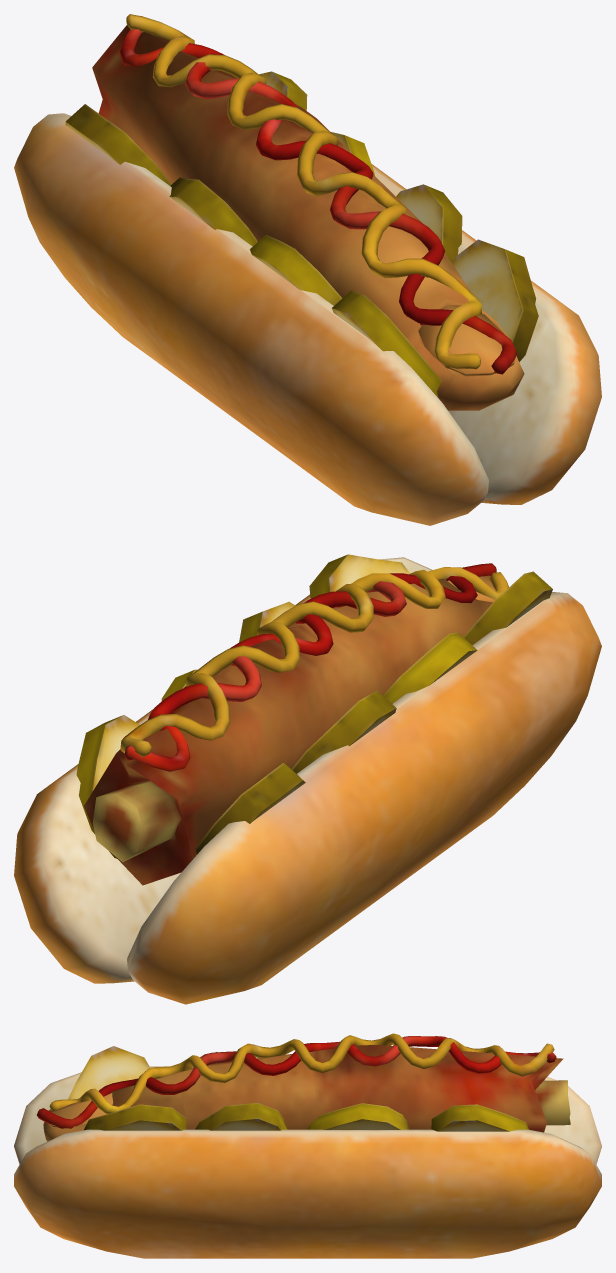
Rendered from human_hotdog_4.fbx.
The picture shows the model from 3 angles, top to bottom: view 1: azimuth 30°, elevation 25°; view 2: azimuth 150°, elevation 25°; view 3: azimuth 270°, elevation 25°; orthographic projection. The views are drawn at different scales.
Parts seen in each view (by area): view 1: human_hotdog_4; view 2: human_hotdog_4; view 3: human_hotdog_4.
Part boxes in pixels (x1,y1,x2,y2): human_hotdog_4: [14, 14, 601, 525]; human_hotdog_4: [14, 554, 601, 1004]; human_hotdog_4: [14, 1033, 601, 1258].
Bounding box in the file's own units: 7.19 × 6.84 × 18.
